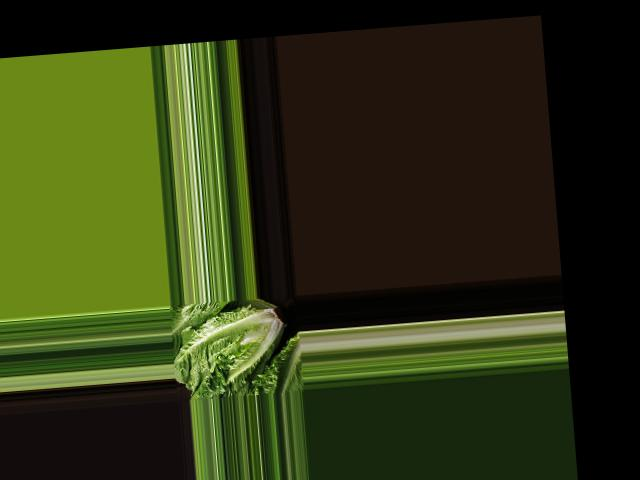lettuce: (170, 294, 297, 394)
